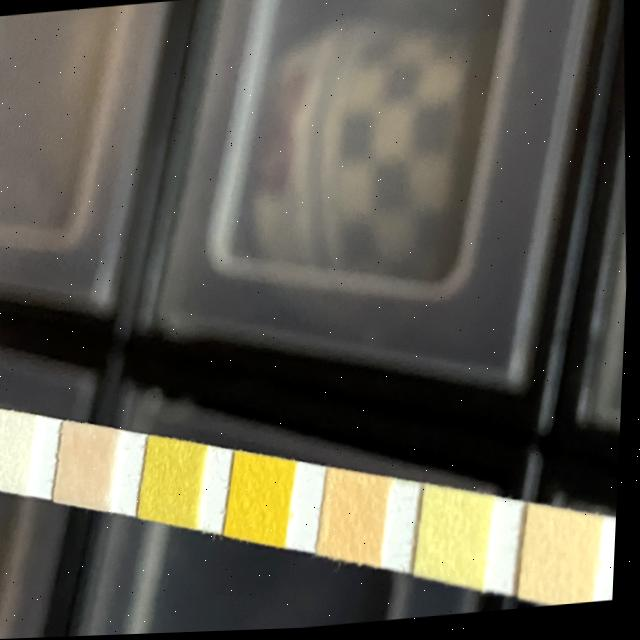Bilirubin: (0, 413, 35, 488)
Blood: (236, 461, 289, 541)
Ketone: (64, 428, 114, 504)
Protein: (426, 496, 483, 583)
SpGravity: (149, 444, 200, 522)
Urobilinogen: (529, 517, 596, 605)
pH: (328, 477, 382, 560)
